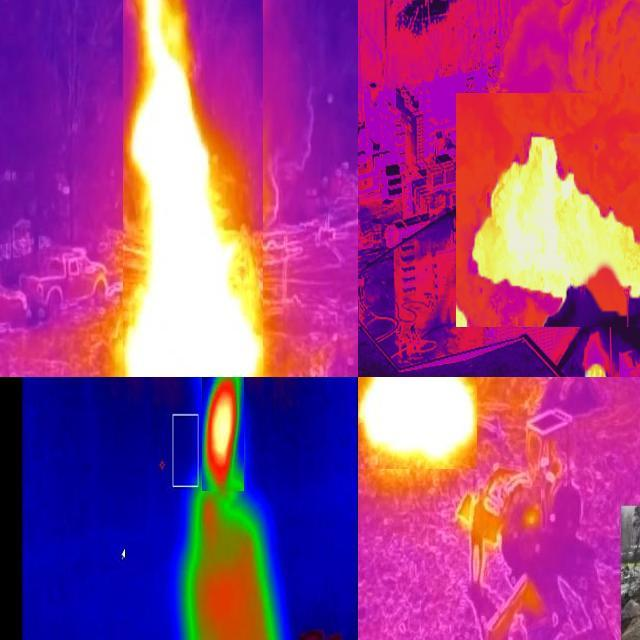fire: (124, 1, 264, 378), (475, 135, 639, 315), (359, 378, 478, 470), (203, 378, 245, 492)
